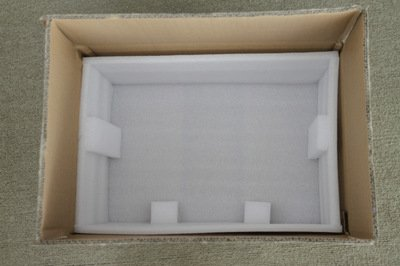5/可回收垃圾/泡沫: (34, 13, 378, 246)
